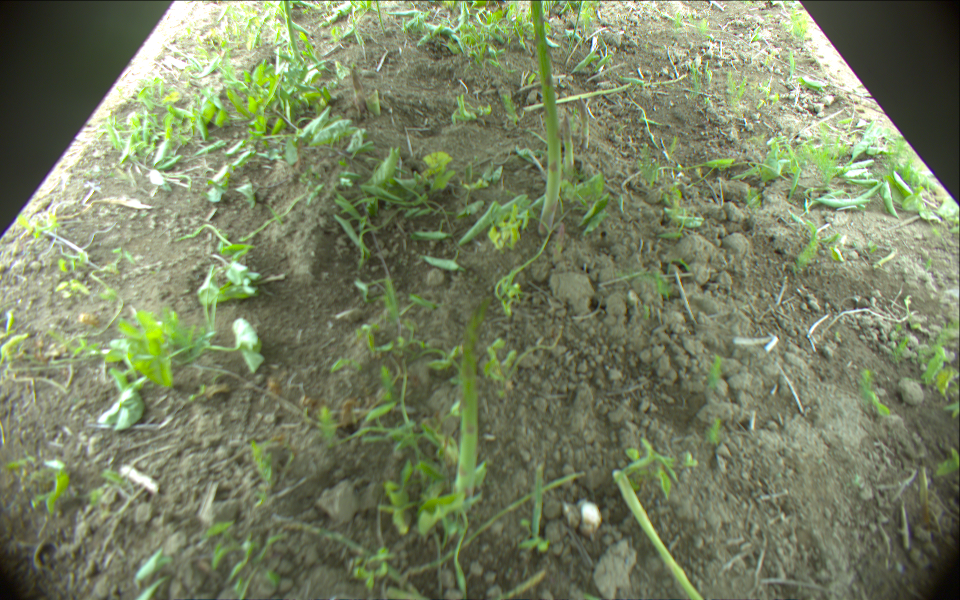aspa: (612, 472, 702, 600), (527, 1, 563, 235), (457, 297, 494, 504), (525, 83, 634, 111), (282, 1, 302, 64), (532, 463, 544, 548)
